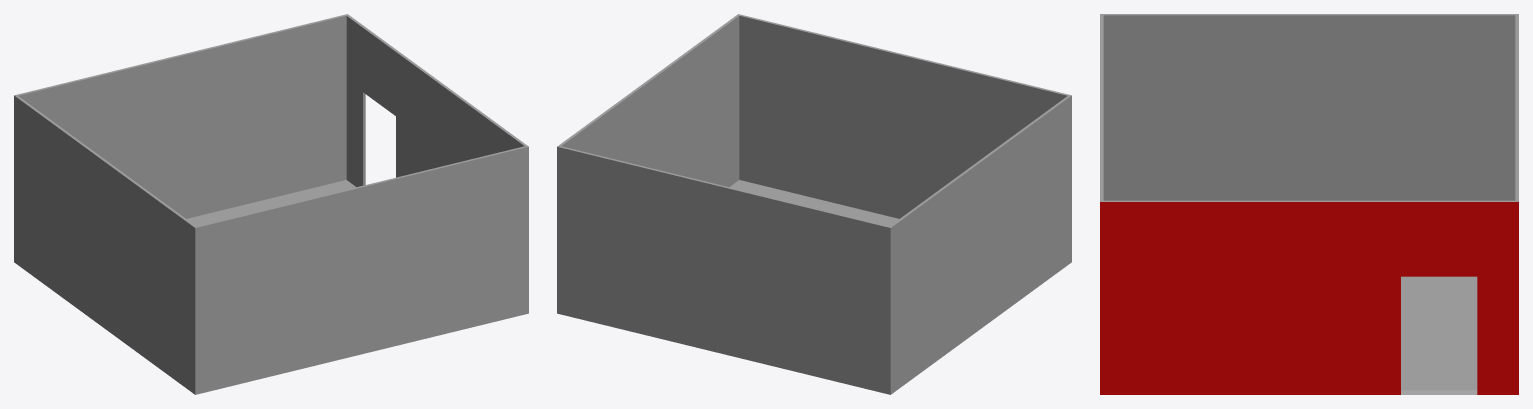
File: room4.fbx
The picture shows the model from 3 angles, left to right: view 1: azimuth 30°, elevation 25°; view 2: azimuth 150°, elevation 25°; view 3: azimuth 270°, elevation 25°; orthographic projection. The views are drawn at different scales.
Visible parts, largest first — view 1: room4; view 2: room4; view 3: room4.
Part boxes in pixels (box(x1,y1,x2,y2)): room4: box(14, 14, 528, 394); room4: box(557, 14, 1071, 394); room4: box(1100, 14, 1518, 394).
Size of the model in its own units: 6.38 by 3.05 by 6.
